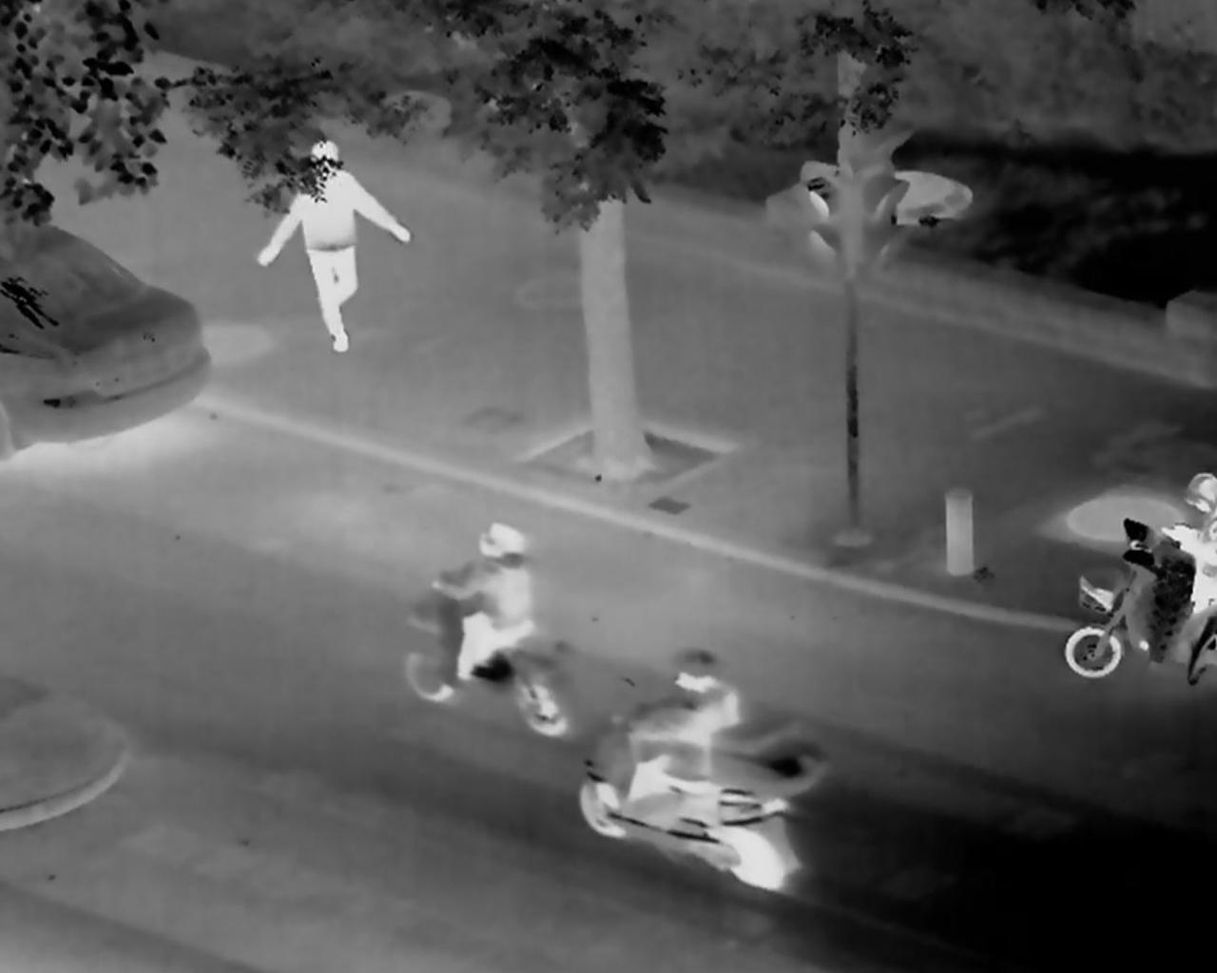person: (259, 130, 398, 351), (639, 639, 722, 841), (1158, 450, 1217, 626), (457, 527, 515, 679)
